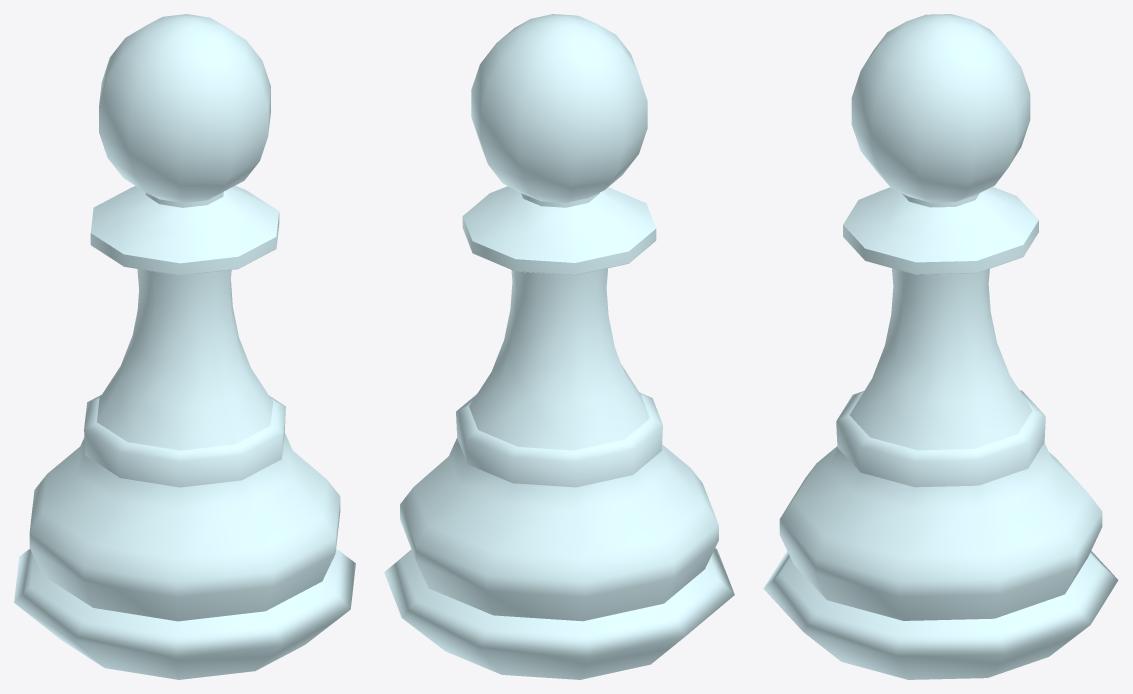
The model's file is item-0-2.glb.
3 renders of one model, left to right at view 1: azimuth 30°, elevation 25°; view 2: azimuth 150°, elevation 25°; view 3: azimuth 270°, elevation 25°, orthographic.
Parts seen in each view (by area): view 1: BlackPawn; view 2: BlackPawn; view 3: BlackPawn.
Part boxes in pixels (x1,y1,x2,y2): BlackPawn: [14, 14, 355, 679]; BlackPawn: [384, 14, 734, 679]; BlackPawn: [763, 14, 1118, 679].
Size of the model in its own units: 0.0889 by 0.1731 by 0.0918.
